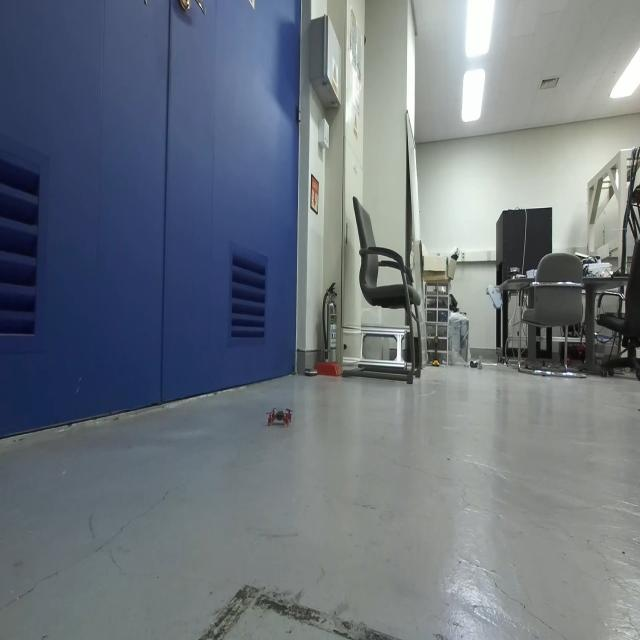crazyflie: (266, 399, 294, 433)
